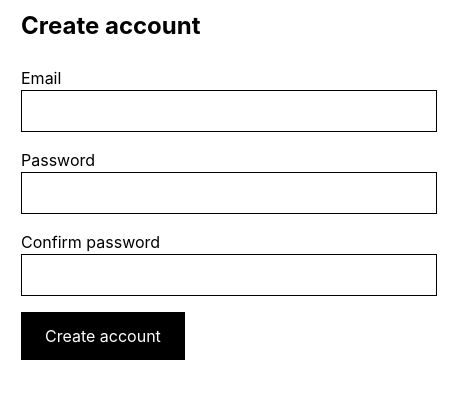
Scenario: account forms › keeps the registration form and backend validation message on rejection
Type "new@example.com" into the field labelled "Email".
click(229, 111); type("new@example.com")  # box [21,90,437,132]
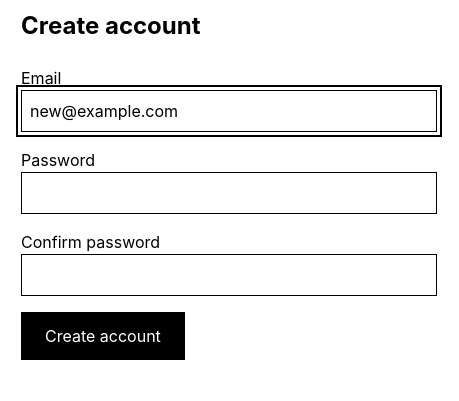
Type "long-password" into the password field labelled "Password".
click(229, 193); type("long-password")  # box [21,172,437,214]
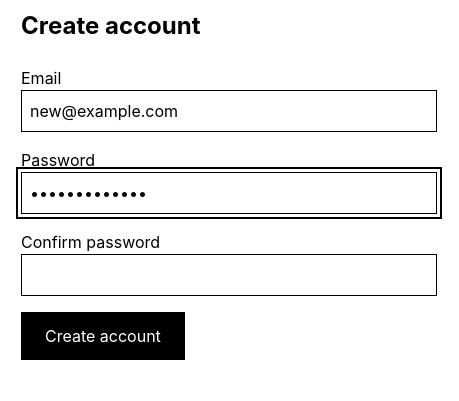
Type "long-password" into the password field labelled "Confirm password".
click(229, 275); type("long-password")  # box [21,254,437,296]
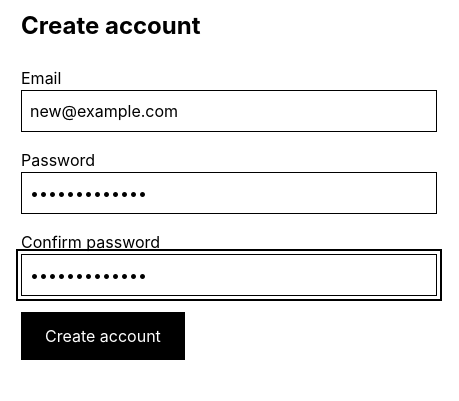
Click the button "Create account".
click(103, 336)  # box [21,312,185,360]
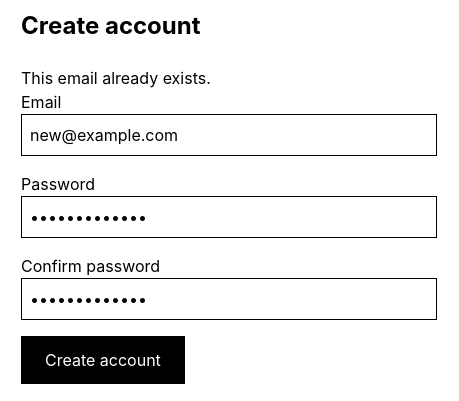
Expected: the message shows "email already exists", [21,68,211,88]
